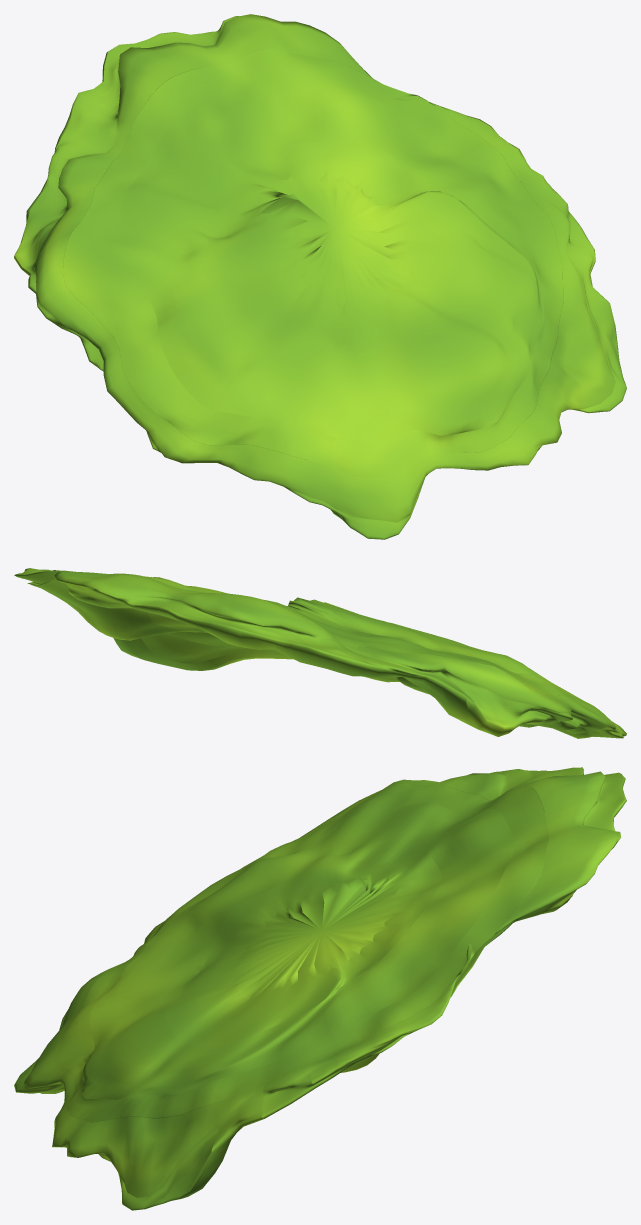
File: Marul .fbx
3 views of the same model, one above another, from view 1: azimuth 30°, elevation 25°; view 2: azimuth 150°, elevation 25°; view 3: azimuth 270°, elevation 25° (orthographic). The views are drawn at different scales.
Visible parts, largest first — view 1: Cube.087; view 2: Cube.087; view 3: Cube.087.
Part boxes in pixels (x1=…): Cube.087: x1=14, y1=14, x2=626, y2=539; Cube.087: x1=14, y1=568, x2=626, y2=738; Cube.087: x1=14, y1=767, x2=626, y2=1210.
Bounding box in the file's own units: 18.1 × 9.82 × 17.12.
Materials: 1 (1 with a texture image).
